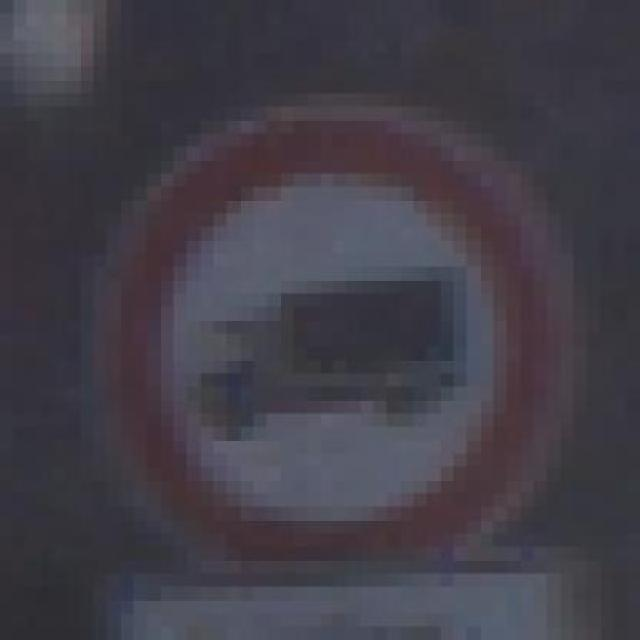Truck traffic is prohibited: (67, 53, 587, 587)
